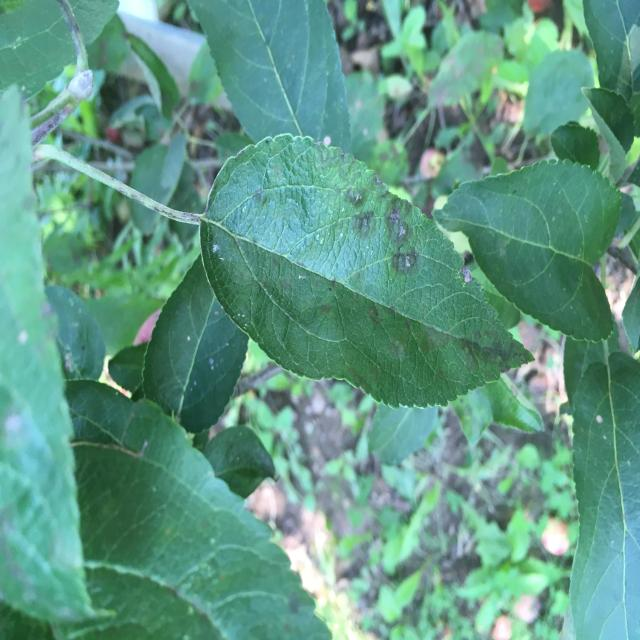scab: (229, 135, 453, 292), (404, 301, 534, 400)
